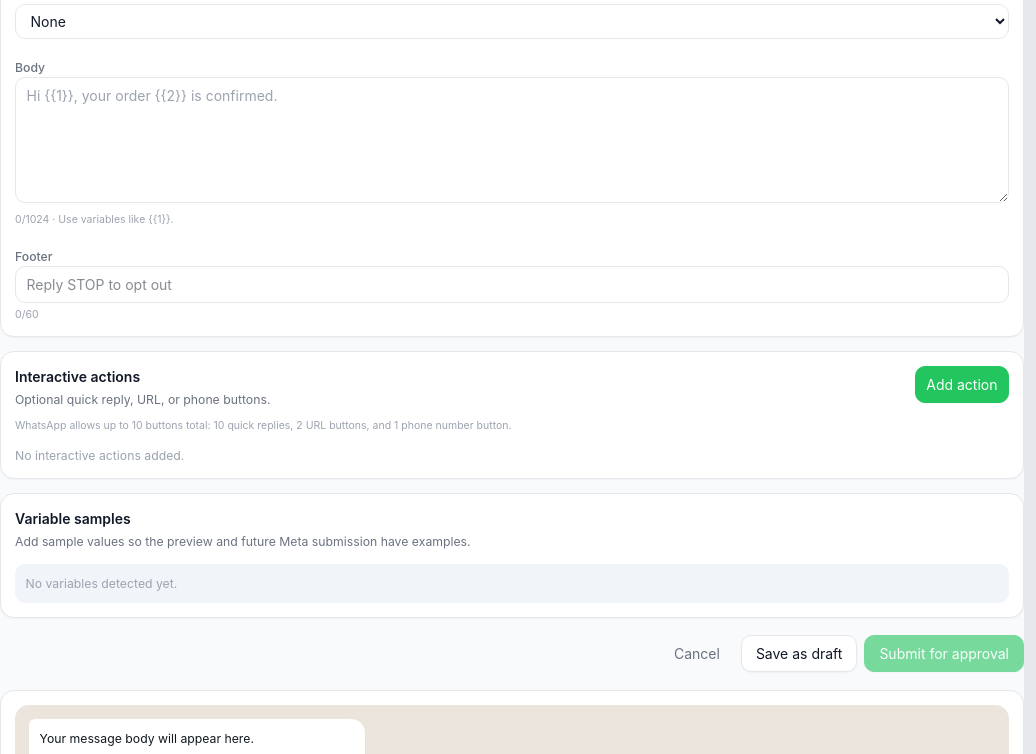
Test case: adds and removes a button
(page scrolled)
Click the button "Add action" at (962, 384), box [915,366,1009,403]
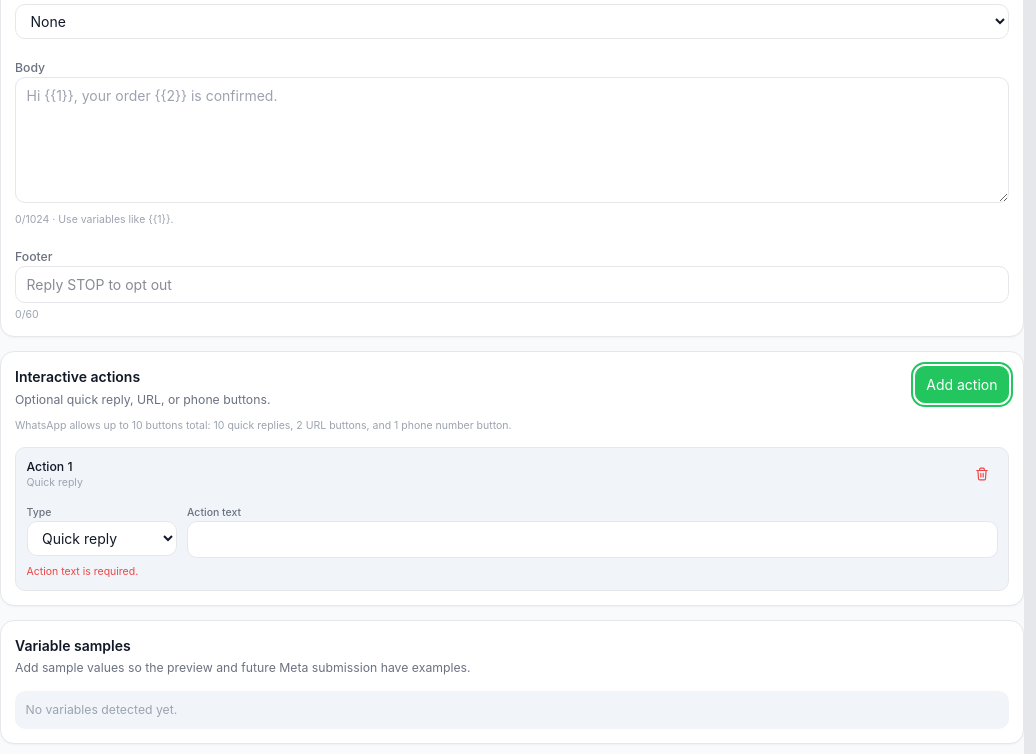
Expected: the field labelled "Action text" is shown, [187,521,998,558]
Click the button named "Remove action 1" at (982, 474), box [966,458,998,490]
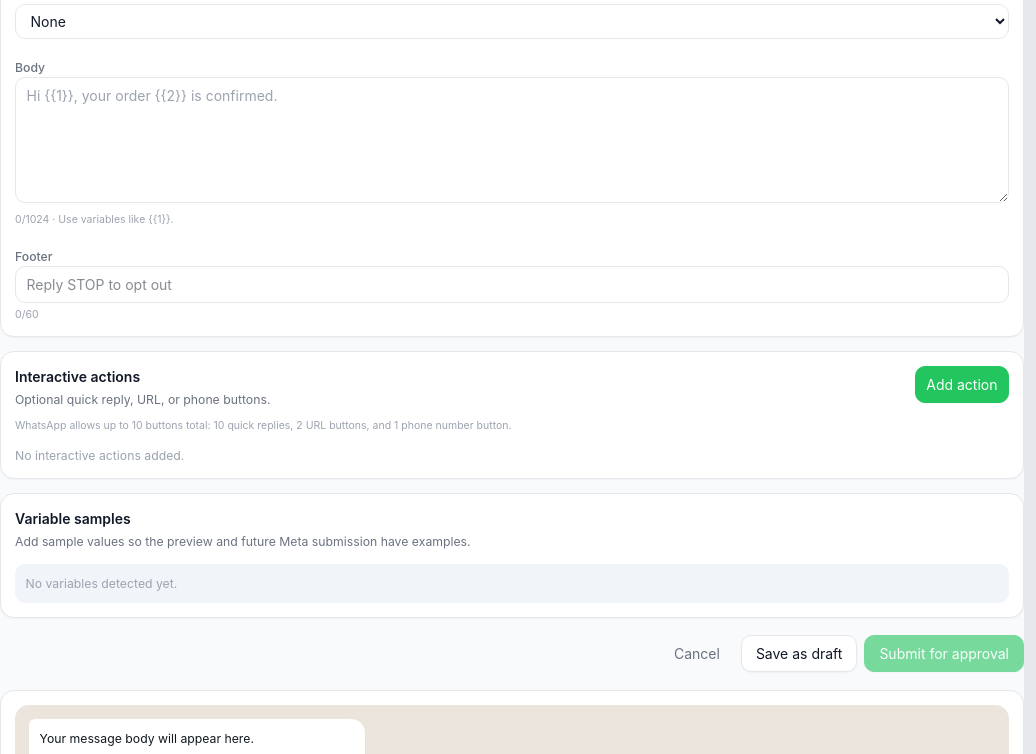
Expected: the label labelled "Action text" is gone
